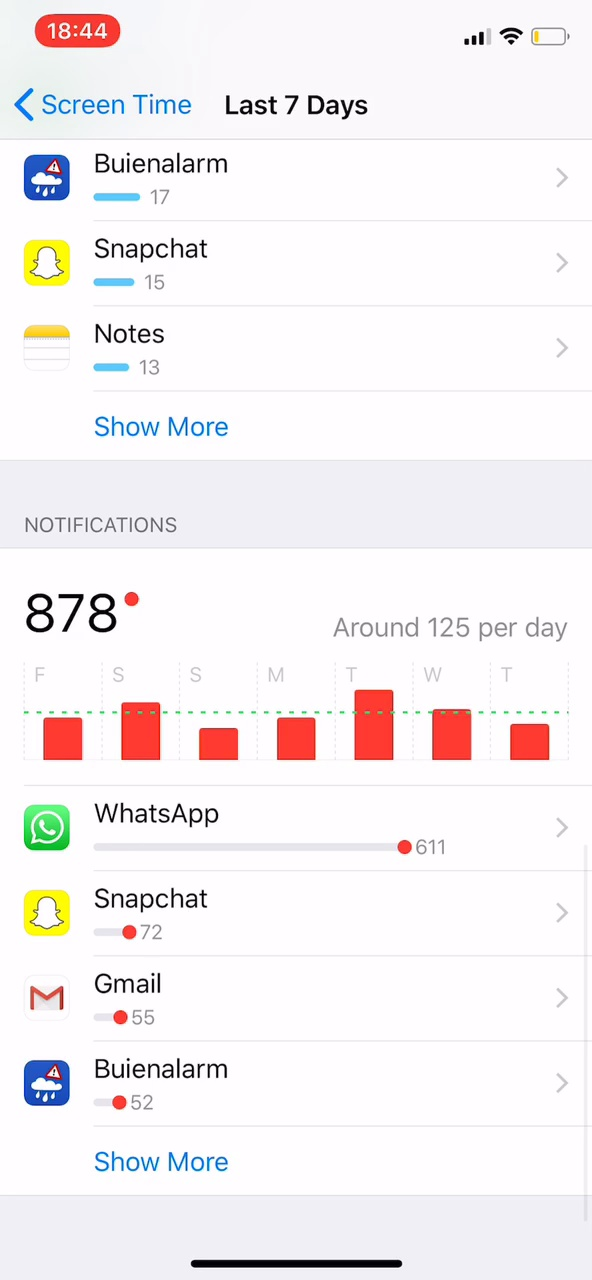not_app: (12, 785, 498, 874), (11, 1044, 249, 1124), (9, 879, 253, 957), (9, 960, 192, 1044)
not_over: (1, 486, 204, 649)
pick_app: (7, 136, 258, 222), (6, 218, 227, 305), (9, 309, 198, 394)
week: (211, 91, 384, 122)
